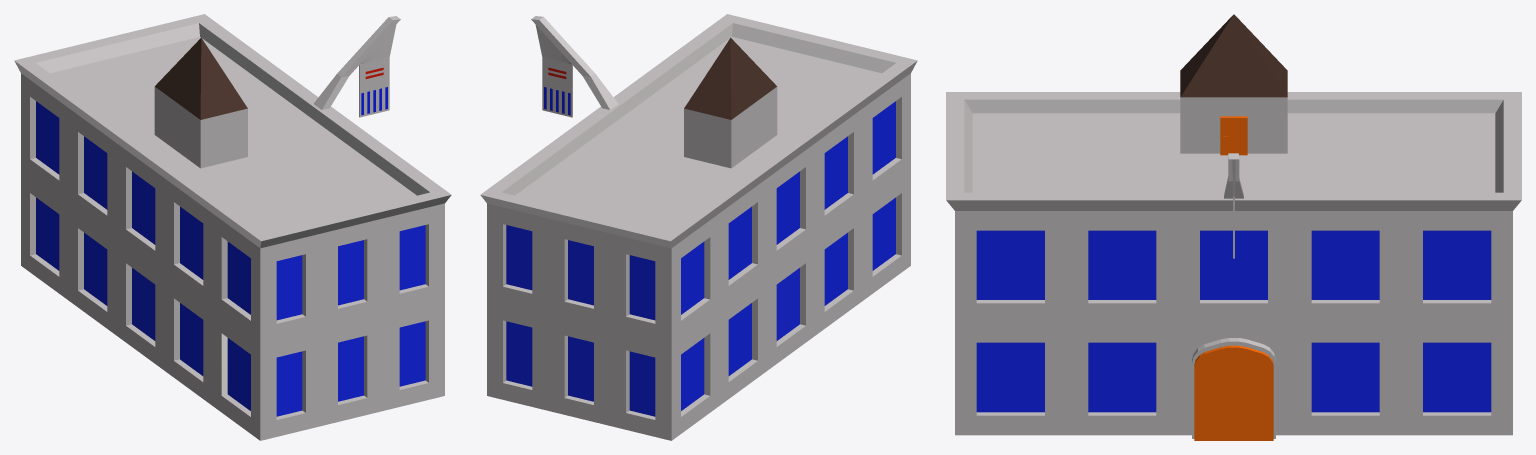
Rendered from 1 Meria.fbx.
3 views of the same model, side by side, from view 1: azimuth 30°, elevation 25°; view 2: azimuth 150°, elevation 25°; view 3: azimuth 270°, elevation 25° (orthographic). The views are drawn at different scales.
Parts seen in each view (by area): view 1: Cube.015; view 2: Cube.015; view 3: Cube.015.
Part boxes in pixels (left/top/right/bottom): Cube.015: left=14, top=14, right=451, bottom=440; Cube.015: left=480, top=14, right=917, bottom=440; Cube.015: left=946, top=14, right=1521, bottom=440.
Bounding box in the file's own units: 500 × 551 × 820.
